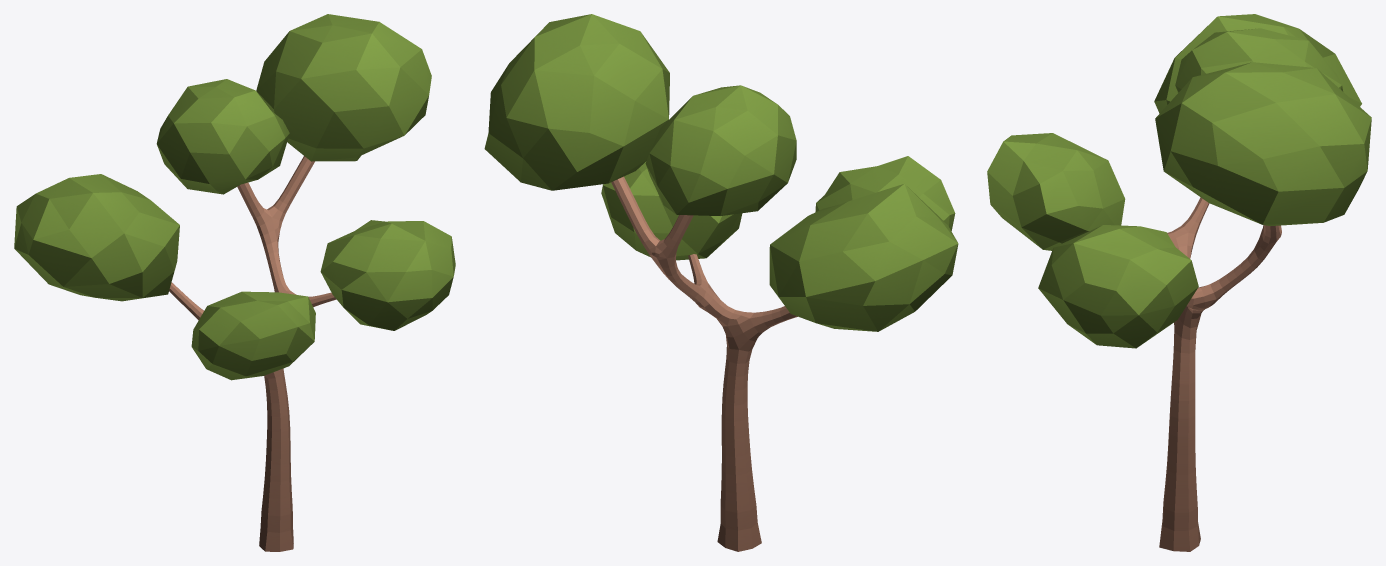
File: tree1.fbx
3 views of the same model, side by side, from view 1: azimuth 30°, elevation 25°; view 2: azimuth 150°, elevation 25°; view 3: azimuth 270°, elevation 25° (orthographic). The views are drawn at different scales.
Parts seen in each view (by area): view 1: Icosphere.001; view 2: Icosphere.001; view 3: Icosphere.001.
Part boxes in pixels (<box>): Icosphere.001: <box>14,14,455,551</box>; Icosphere.001: <box>484,14,958,551</box>; Icosphere.001: <box>987,14,1371,551</box>.
Size of the model in its own units: 887 by 980 by 639.
Materials: 1 (1 with a texture image).
